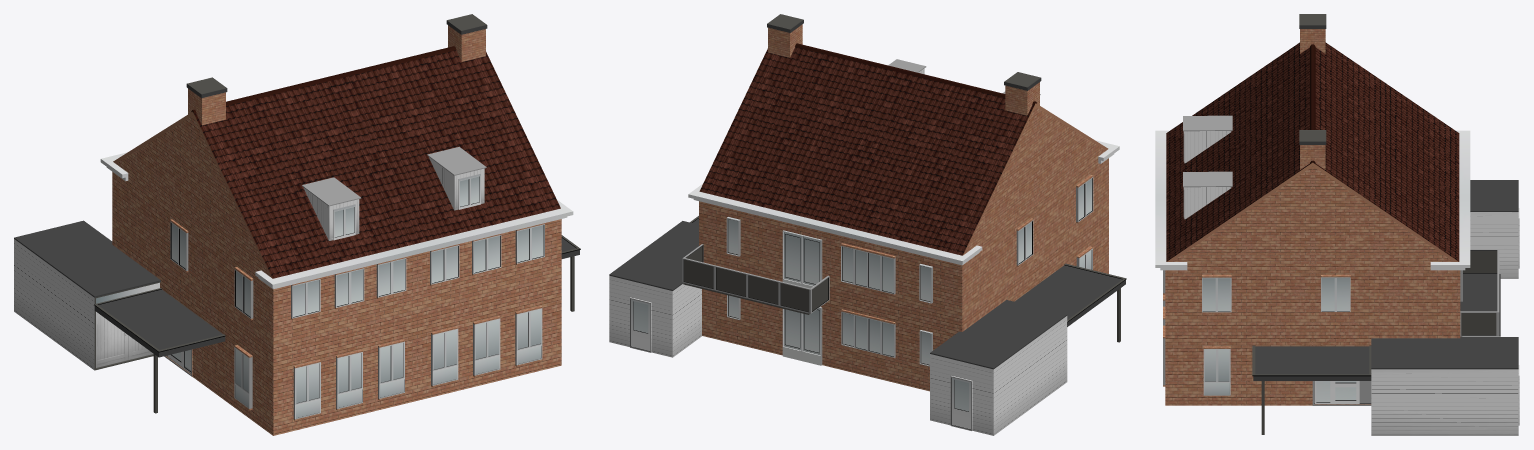
The model's file is It Dwershûs 2+4 en it Uleboerd 79-75+63-53.fbx.
The picture shows the model from 3 angles, left to right: view 1: azimuth 30°, elevation 25°; view 2: azimuth 150°, elevation 25°; view 3: azimuth 270°, elevation 25°; orthographic projection. The views are drawn at different scales.
Parts seen in each view (by area): view 1: It_Dwershûs_2_4_en_it_Uleboerd_79_75_63_53; view 2: It_Dwershûs_2_4_en_it_Uleboerd_79_75_63_53; view 3: It_Dwershûs_2_4_en_it_Uleboerd_79_75_63_53.
Part boxes in pixels (x1=…): It_Dwershûs_2_4_en_it_Uleboerd_79_75_63_53: x1=14, y1=14, x2=580, y2=435; It_Dwershûs_2_4_en_it_Uleboerd_79_75_63_53: x1=609, y1=14, x2=1126, y2=435; It_Dwershûs_2_4_en_it_Uleboerd_79_75_63_53: x1=1155, y1=14, x2=1519, y2=435.
Size of the model in its own units: 17.56 by 11.47 by 14.34.
